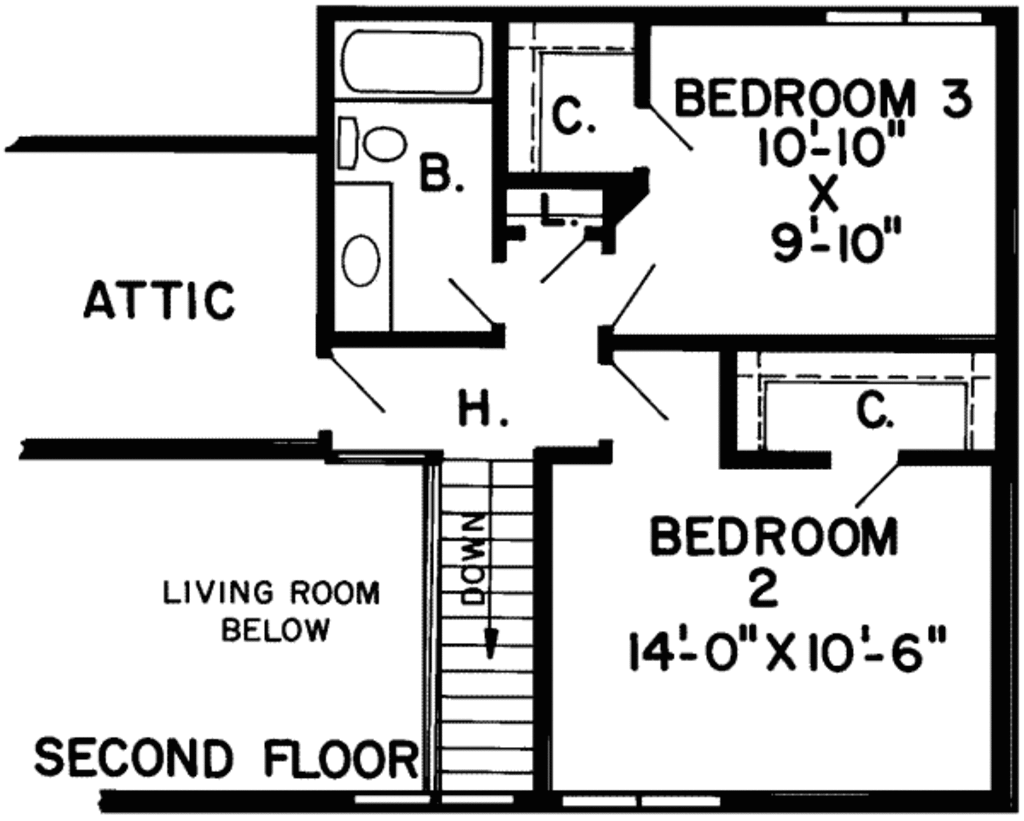door: (821, 435, 905, 522), (508, 219, 597, 285), (603, 249, 664, 335), (636, 100, 705, 171), (443, 272, 515, 334)
large_sink: (339, 115, 406, 171)
small_sink: (338, 202, 396, 316)
stairs: (419, 450, 558, 814)
tub: (331, 20, 503, 106)
window: (641, 788, 720, 818), (908, 9, 988, 30), (821, 9, 906, 27), (556, 794, 636, 811)
